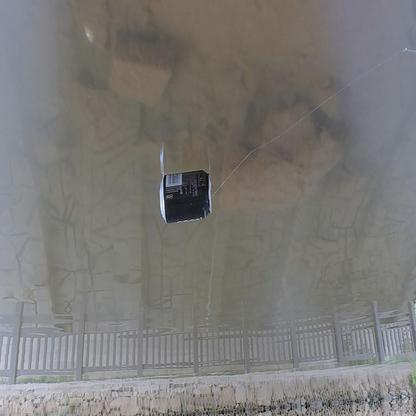can: (159, 170, 214, 225)
